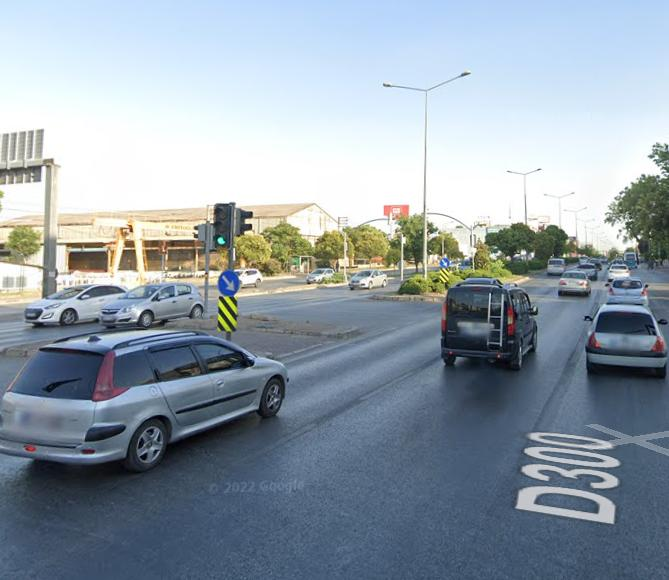greenlight: (214, 204, 230, 247)
